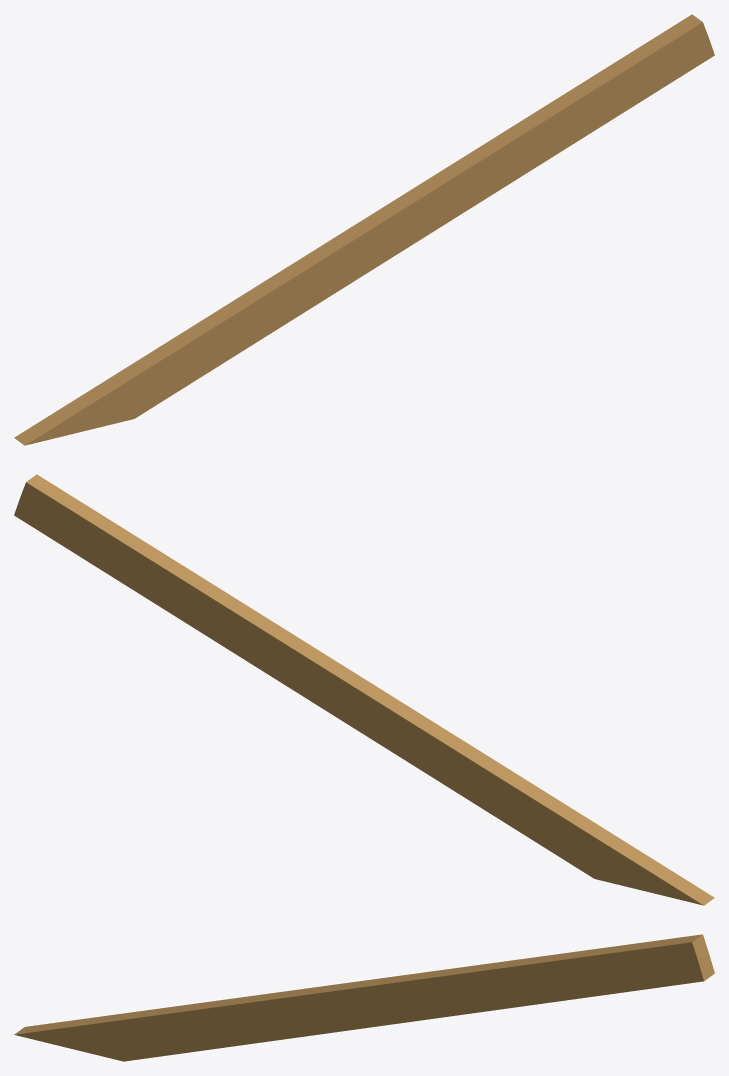
3 renders of one model, top to bottom at view 1: azimuth 30°, elevation 25°; view 2: azimuth 150°, elevation 25°; view 3: azimuth 330°, elevation 25°, orthographic.
Visible parts, largest first — view 1: L4-6-S4-3E9-M01; view 2: L4-6-S4-3E9-M01; view 3: L4-6-S4-3E9-M01.
Boxes of the visible parts, left/top/right/bottom form: L4-6-S4-3E9-M01: left=14, top=14, right=714, bottom=445; L4-6-S4-3E9-M01: left=14, top=474, right=714, bottom=905; L4-6-S4-3E9-M01: left=14, top=934, right=714, bottom=1061.
Bounding box in the file's own units: 1.66 × 0.5932 × 0.045.
